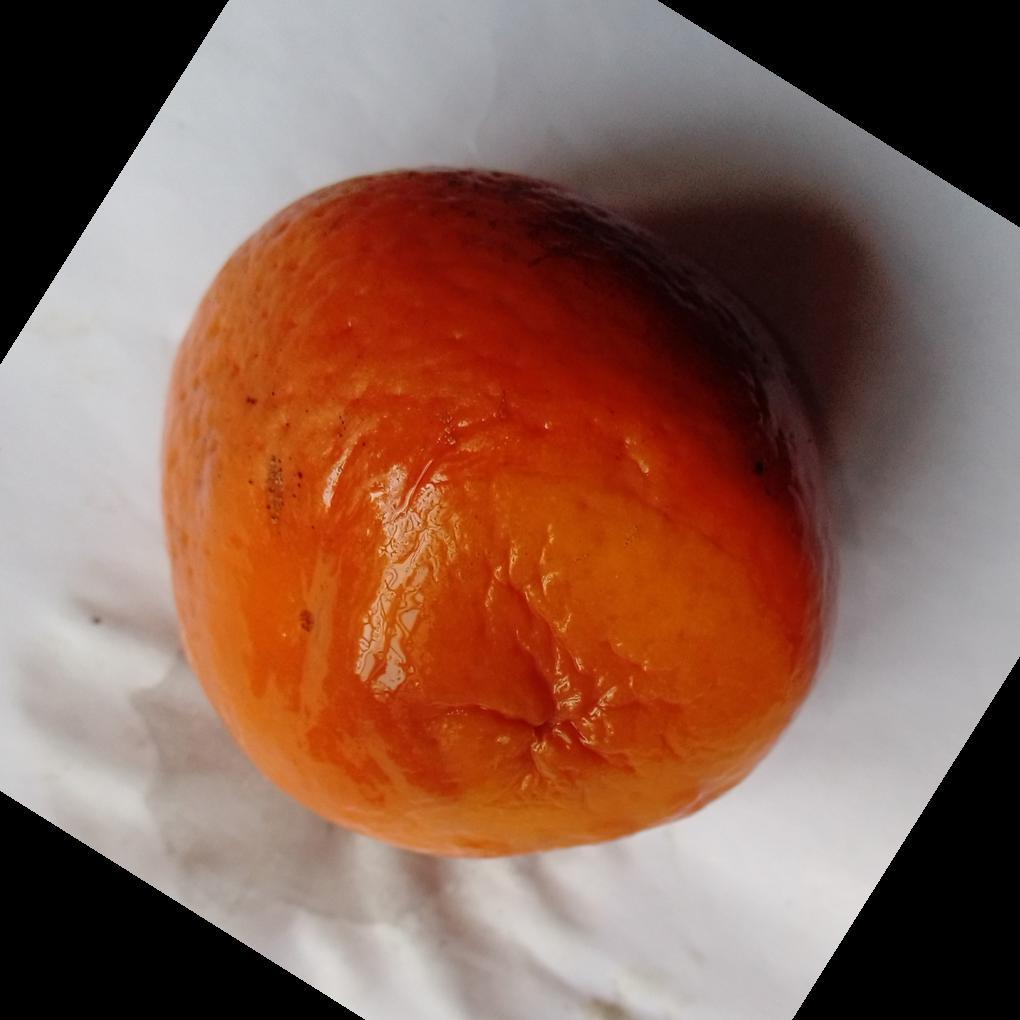FreshOrange: (157, 168, 841, 868)
